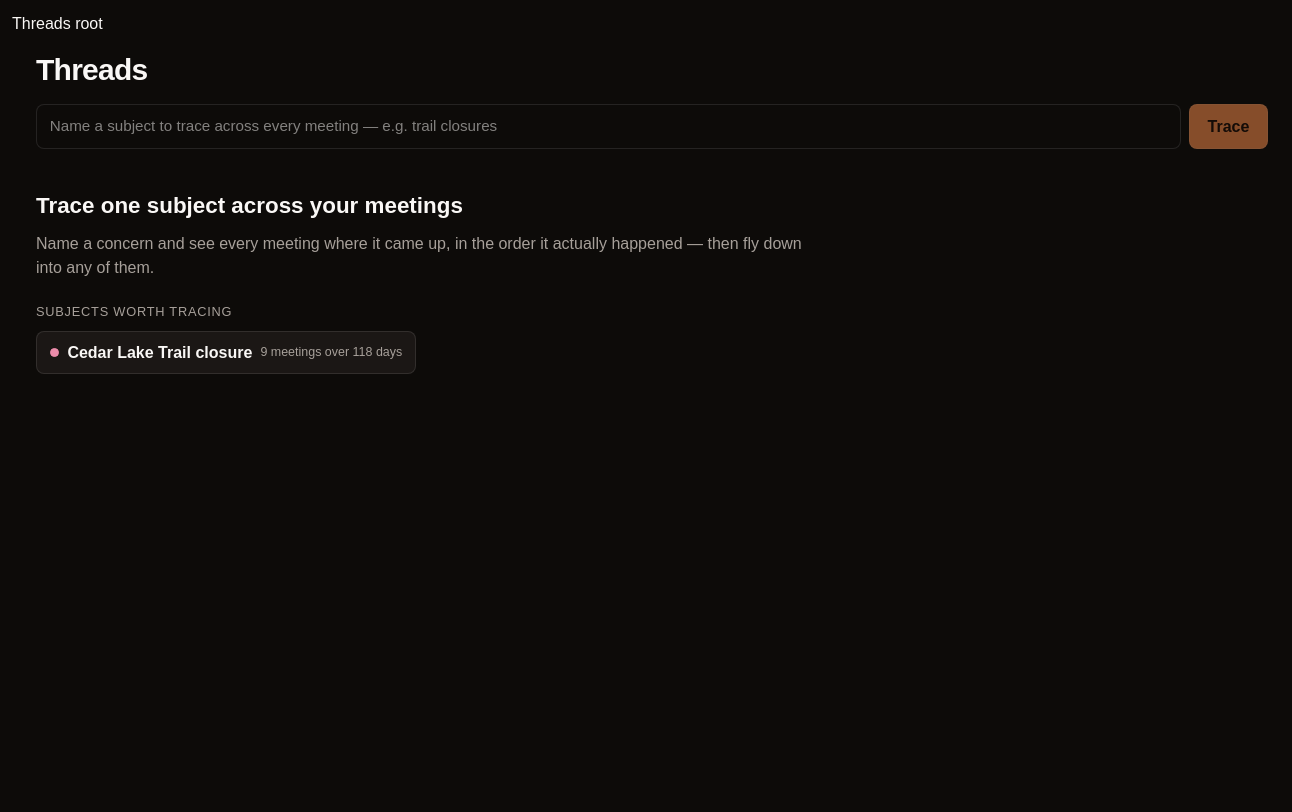
Scenario: the two ways in › offers the adjacent candidates rather than guessing between them
Type "trail closures" into the field labelled "subject to trace". click: coordinates (608, 127)
box: [36,104,1181,149]
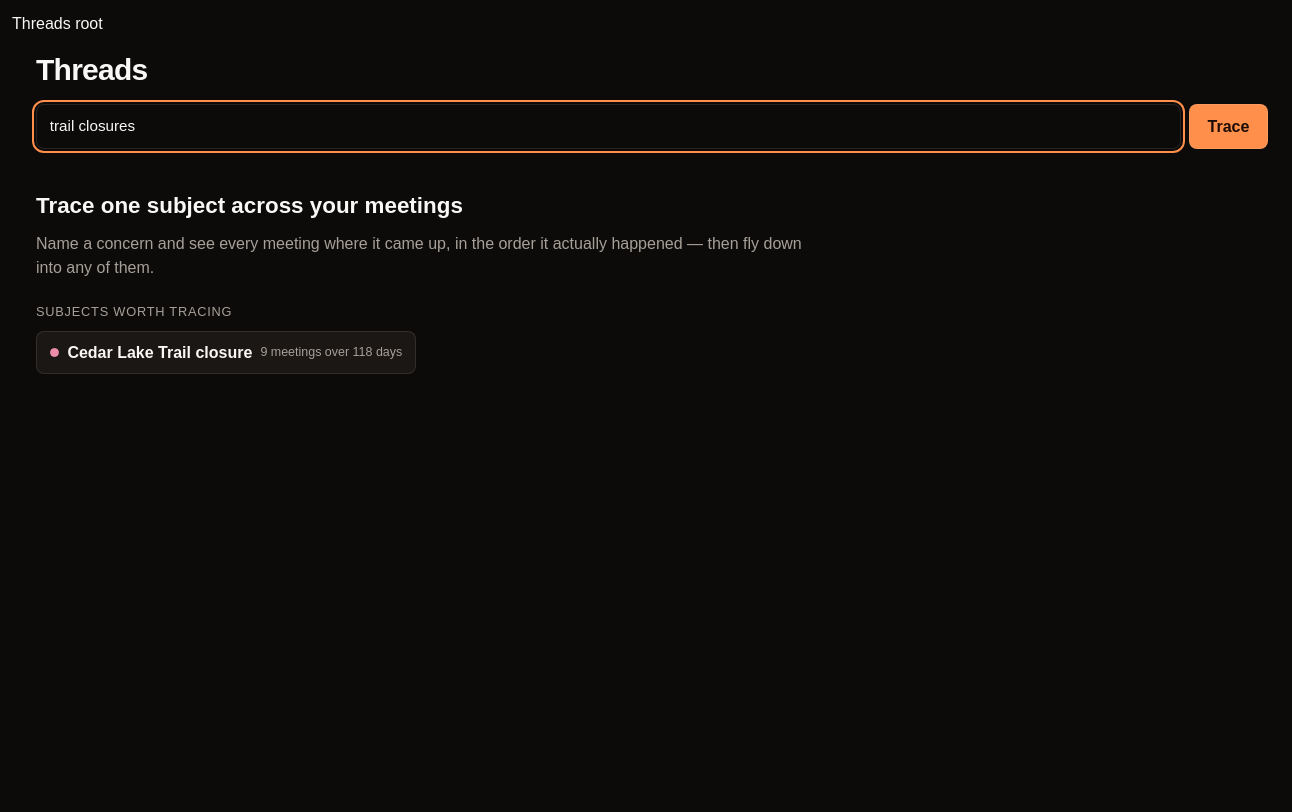
Click the button "Trace". click: coordinates (1228, 127)
box: [1189,104,1268,149]
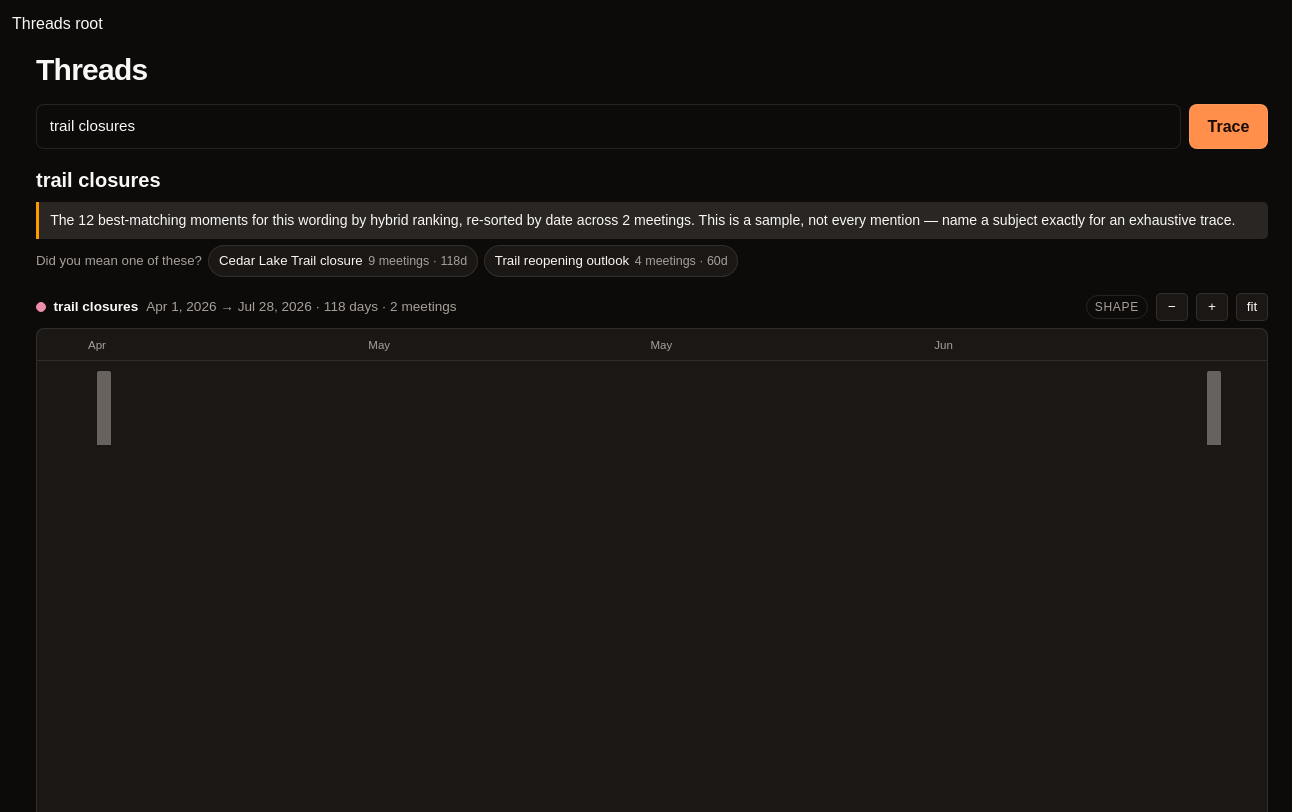
Check: the text "Did you mean one of these?" is shown, box [36,251,202,271]
Check: the button "Cedar Lake Trail closure 9 meetings · 118d" is shown, box [208,245,478,277]
Check: the button "Trail reopening outlook 4 meetings · 60d" is shown, box [484,245,738,277]
